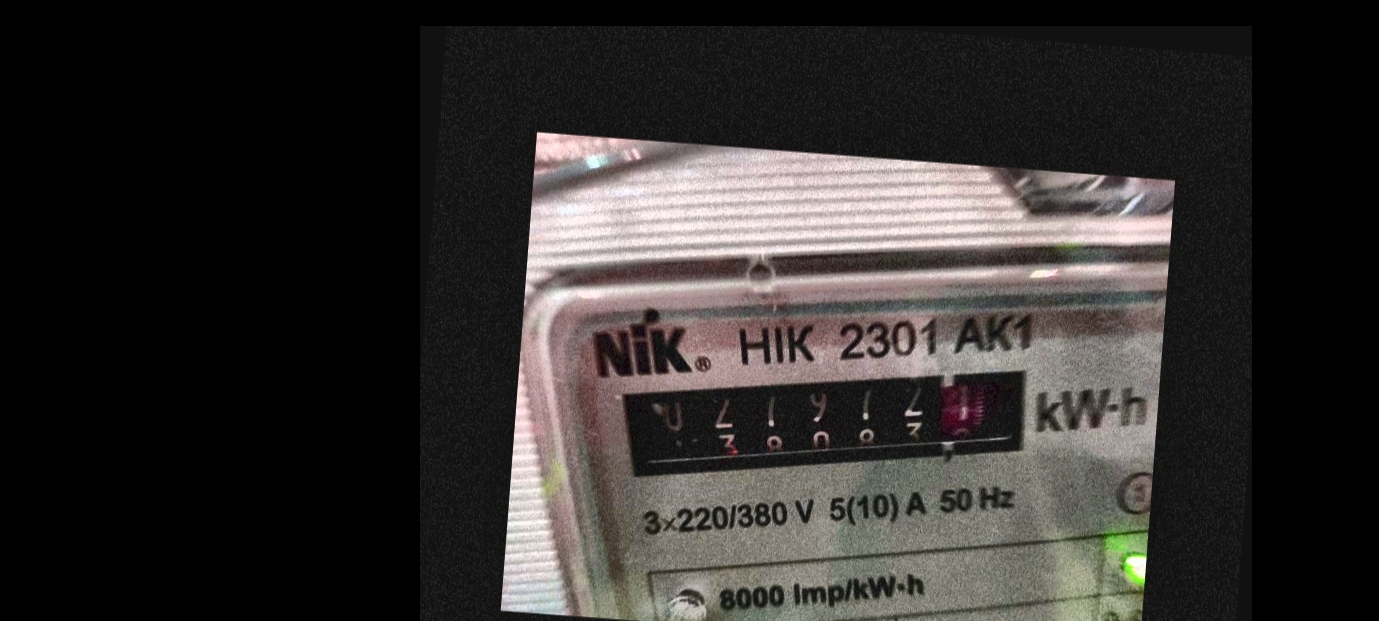0: (656, 393, 687, 431)
1: (951, 379, 976, 423)
2: (706, 388, 737, 429), (897, 378, 928, 417)
7: (849, 380, 878, 423), (756, 389, 781, 427)
9: (803, 385, 832, 422)
screen: (598, 328, 1060, 516)
